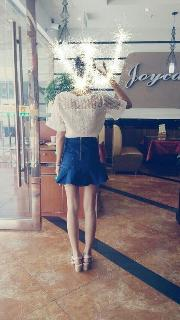short sleeve top: (45, 90, 127, 138)
skirt: (55, 137, 109, 186)
